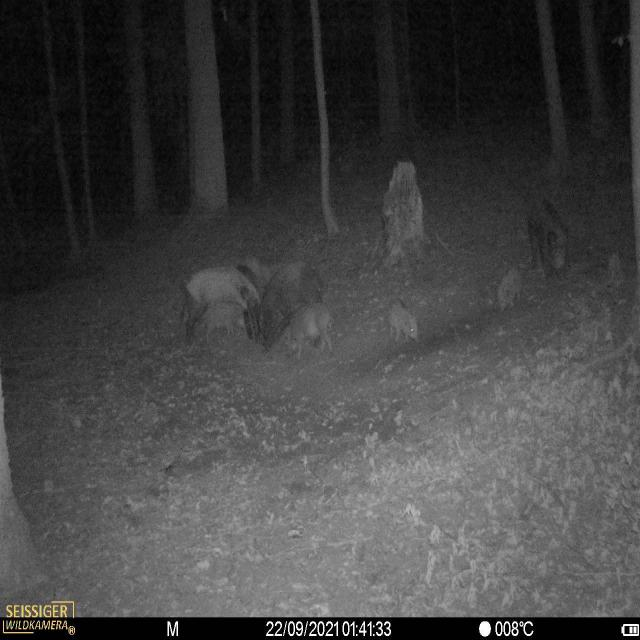wild boar: (178, 263, 260, 345), (526, 194, 574, 284), (279, 299, 337, 363), (382, 298, 420, 346), (496, 264, 526, 313)
